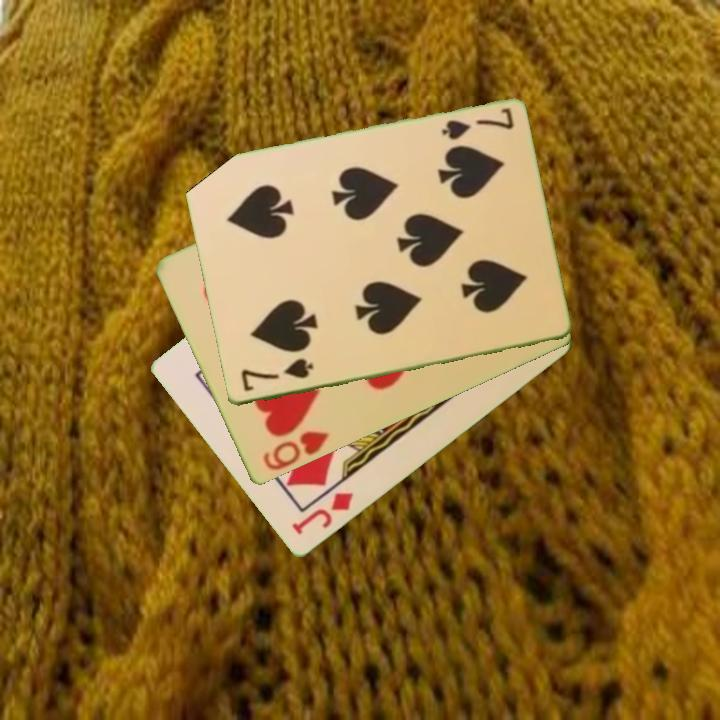6h: (259, 428, 331, 474)
7s: (437, 104, 517, 144), (237, 355, 316, 395)
Jd: (288, 489, 357, 538)
